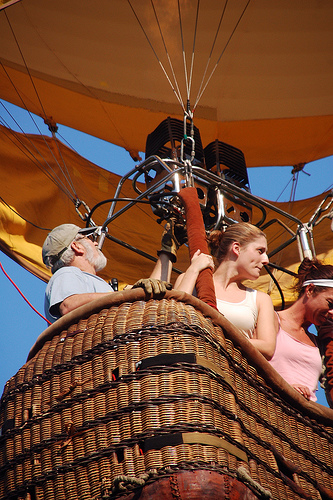without_mask: (217, 227, 271, 285), (51, 227, 109, 279), (296, 274, 333, 333)
